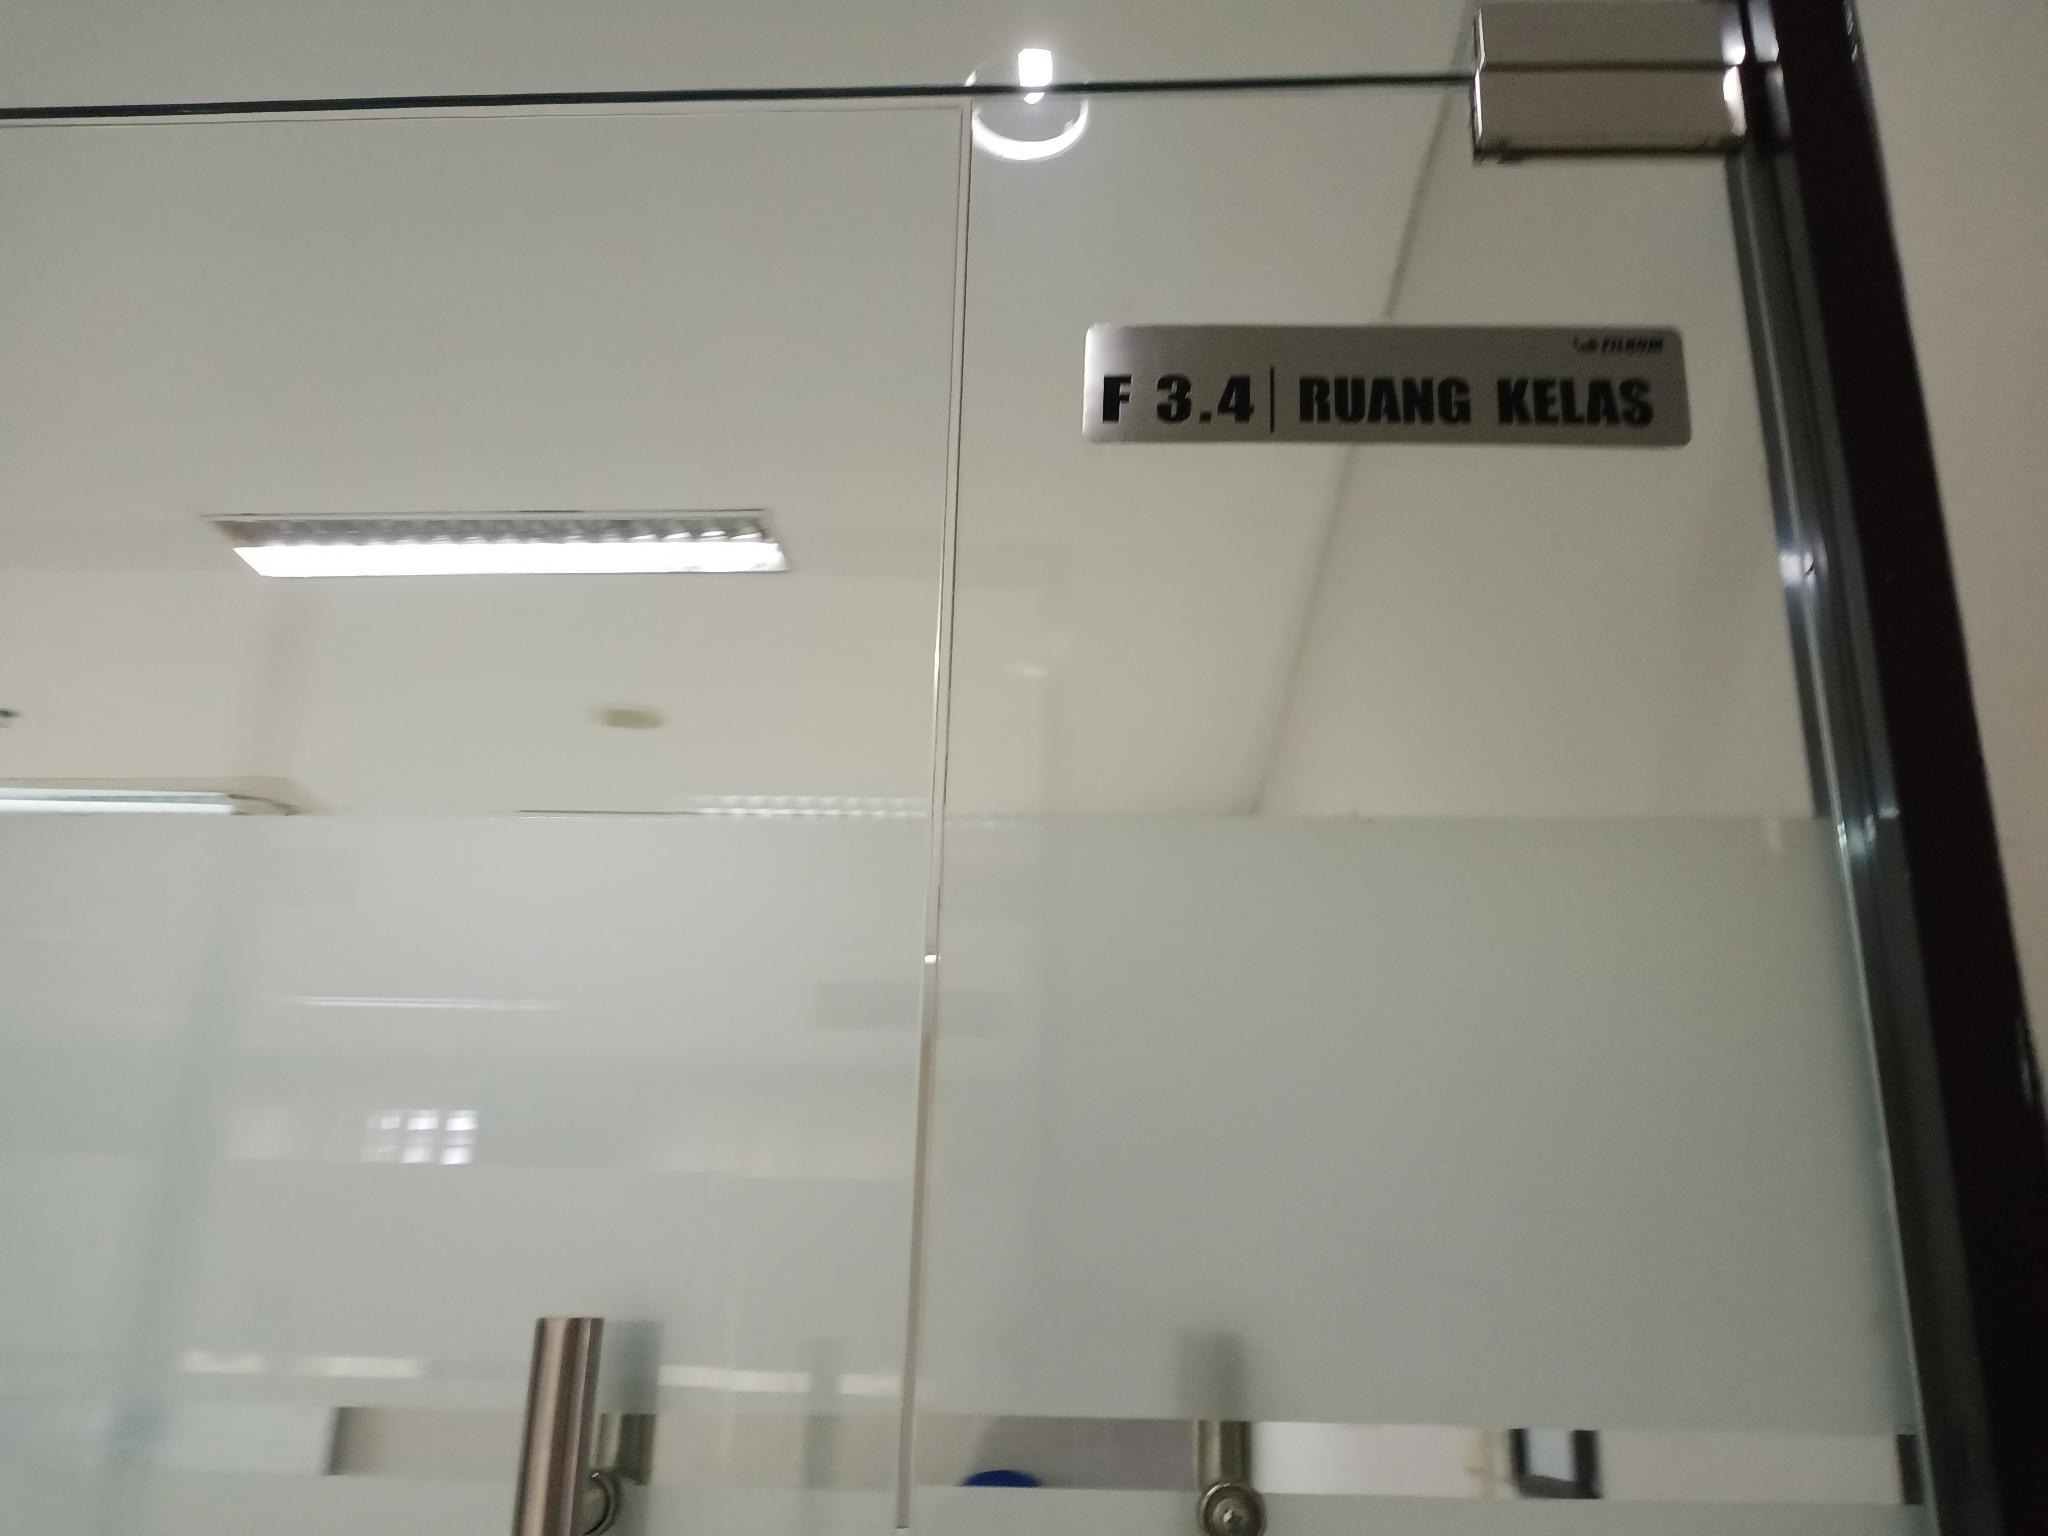plate: (1077, 321, 1693, 447)
